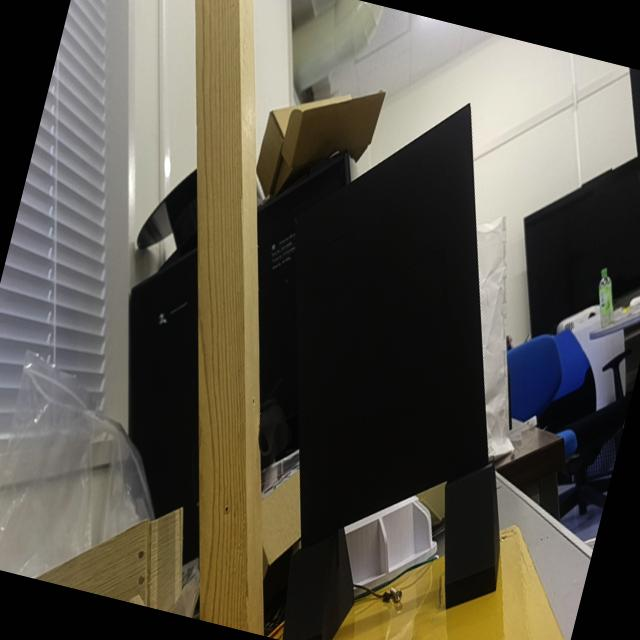Wall: (292, 105, 486, 547)
